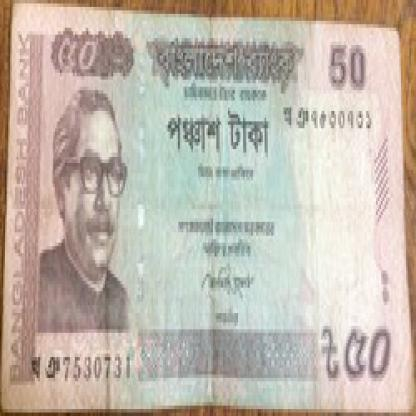Fifty taka: (50, 35, 105, 111)
